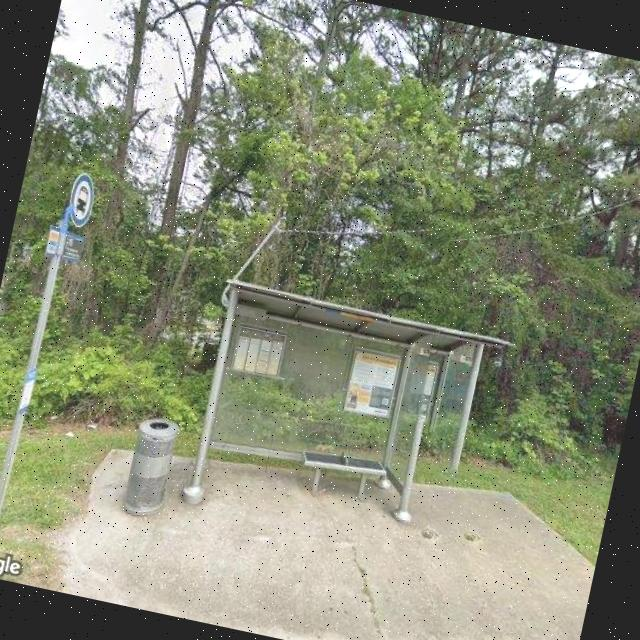seating: (294, 444, 392, 510)
shelter: (178, 277, 516, 563)
trash_can: (120, 414, 180, 522)
